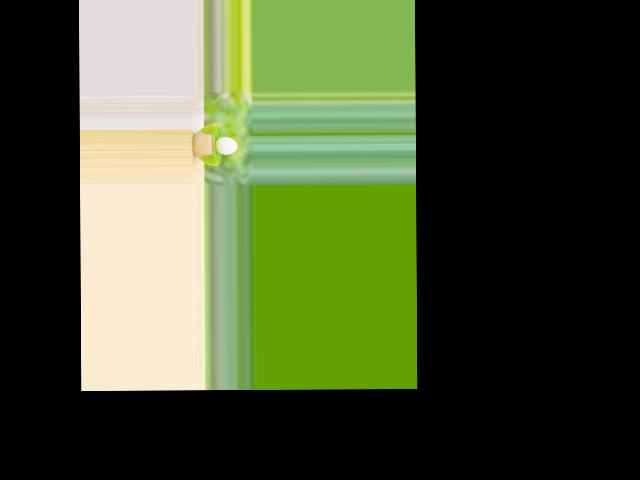egg: (214, 136, 237, 154)
